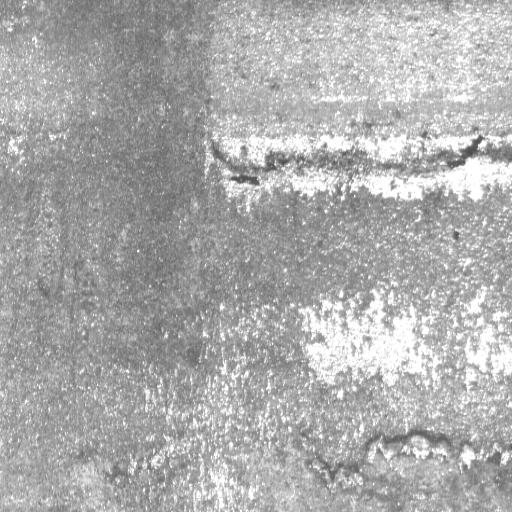hengxiangliewen: (205, 127, 512, 196)
qiaopi: (305, 425, 512, 490)
